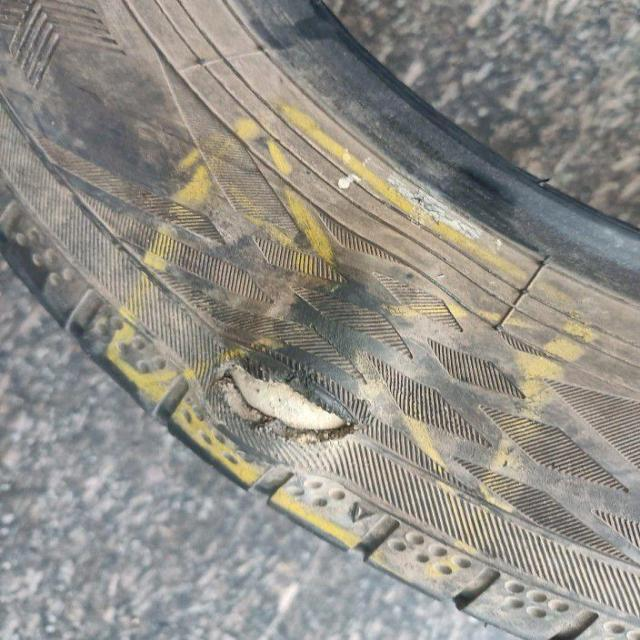Bulge: (202, 218, 444, 492)
